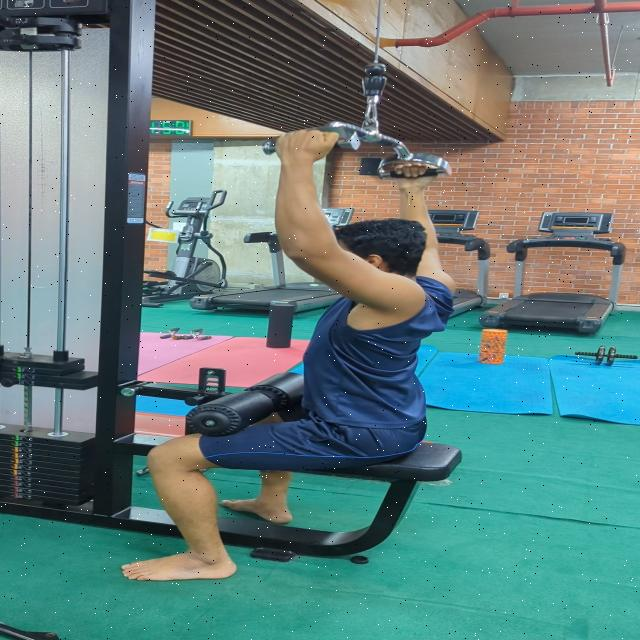Normal_LatPulldown: (86, 120, 477, 597)
